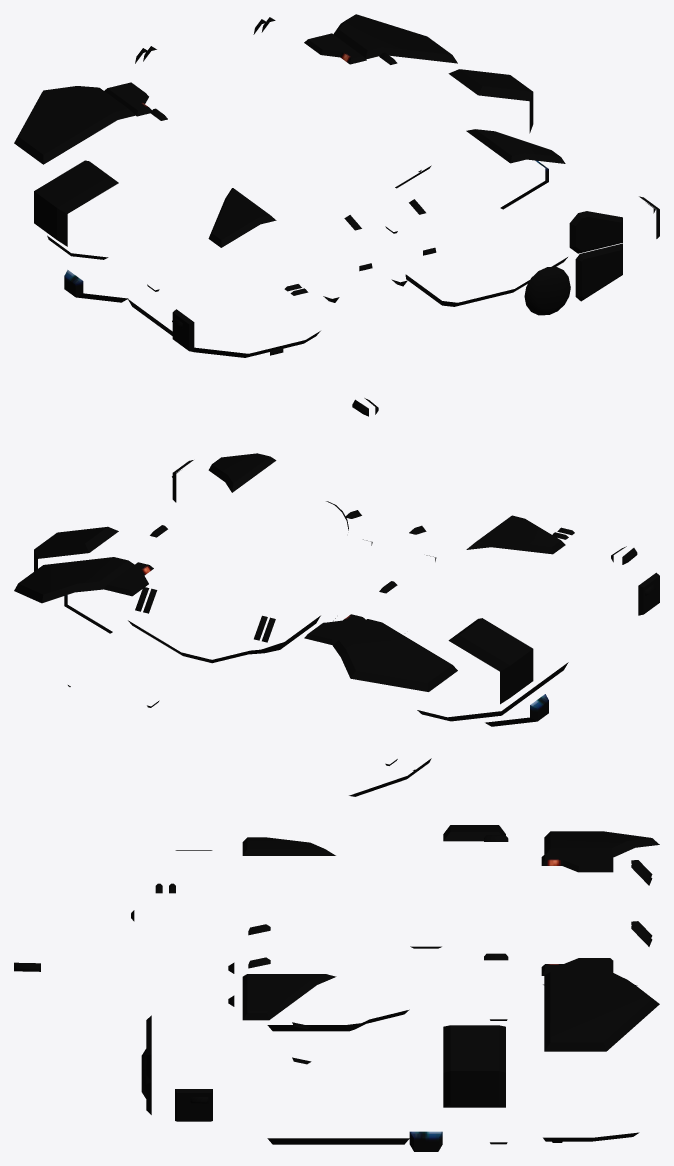
File: hgn_pf_defe_01_t1.glb
The picture shows the model from 3 angles, top to bottom: view 1: azimuth 30°, elevation 25°; view 2: azimuth 150°, elevation 25°; view 3: azimuth 270°, elevation 25°; orthographic projection. The views are drawn at different scales.
Visible parts, largest first — view 1: hgn_turret_plattform_01_LOD0; view 2: hgn_turret_plattform_01_LOD0; view 3: hgn_turret_plattform_01_LOD0.
Part boxes in pixels (x1,y1,x2,y2): hgn_turret_plattform_01_LOD0: (14, 14, 659, 416); hgn_turret_plattform_01_LOD0: (14, 453, 659, 796); hgn_turret_plattform_01_LOD0: (14, 825, 659, 1151).
Size of what is drawn, in the model's own units: 1.27 by 0.4548 by 1.41.
1 material, 1 textured.
